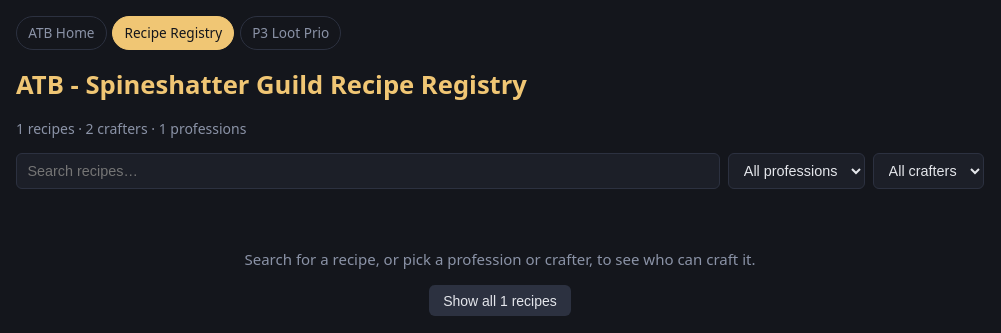
Test: App › links each crafter separately when several share a recipe
What coordinates should you click on to do the following:
click the button "Show all 1 recipes"
I would click on:
 (500, 301)
Its box is [429,286,571,316].
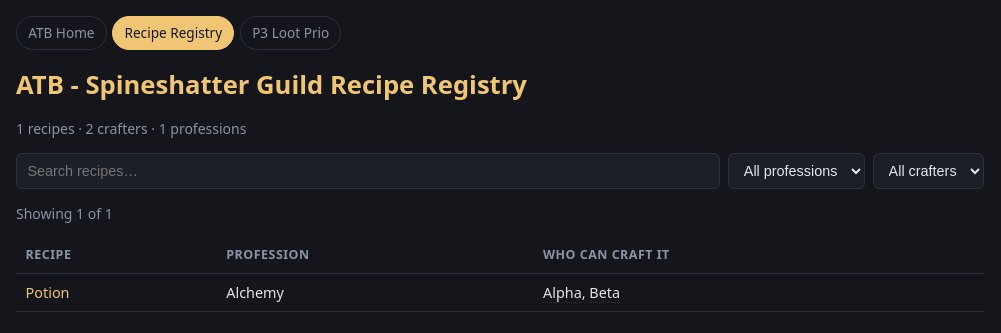
Expected: the link "Alpha" is shown, [543,283,582,303]
Expected: the link "Beta" is shown, [589,283,620,303]
